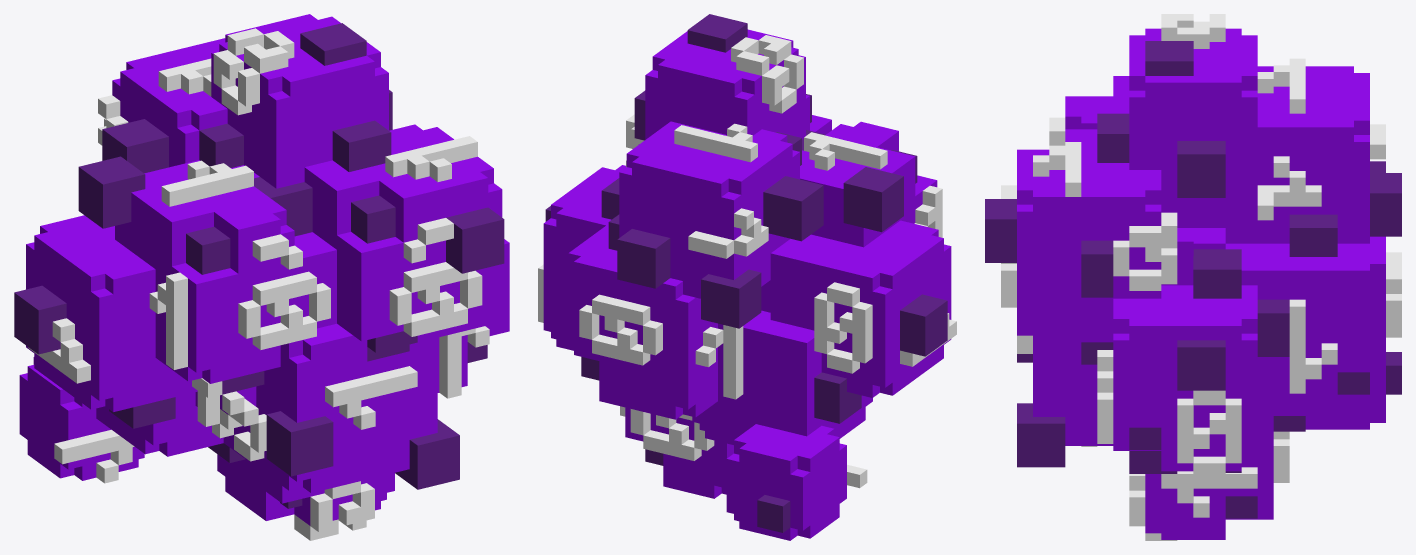
Rendered from GORODITH_air_enemy.obj.
3 views of the same model, side by side, from view 1: azimuth 30°, elevation 25°; view 2: azimuth 150°, elevation 25°; view 3: azimuth 270°, elevation 25° (orthographic). The views are drawn at different scales.
Size of the model in its own units: 3.1 by 3.3 by 2.6.
Materials: 1 (1 with a texture image).
